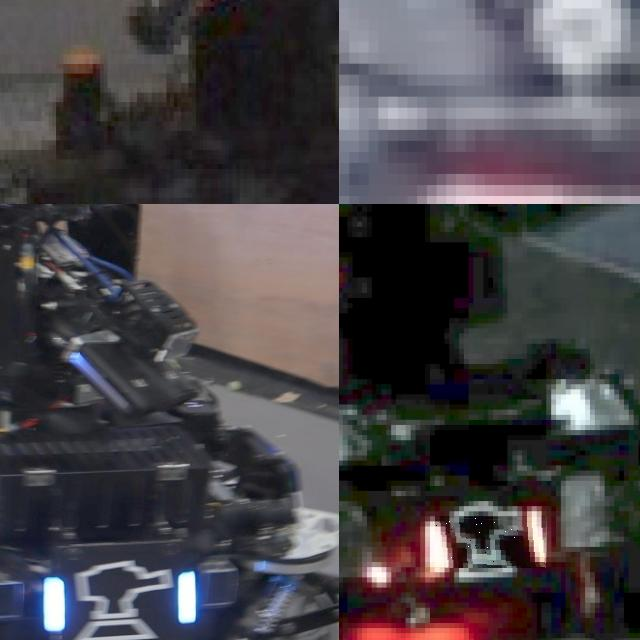Bs: (43, 557, 201, 640)
Rs: (435, 516, 546, 568)
